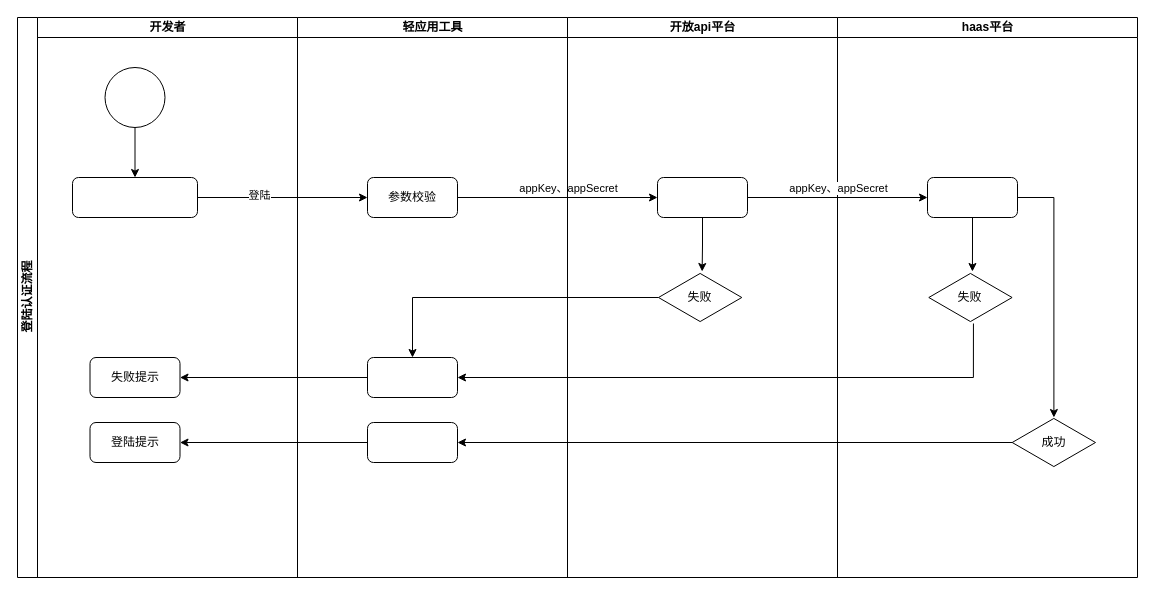
This 1155x595 diagram has some shape labels left out. The shapes that lost their labels are listed below. From the top down, each one's centre as x and y in pixels, then its label:
At pixel 134 97: "开始登陆".
At pixel 135 197: "appKey + appSecret".
At pixel 702 197: "api权限校验".
At pixel 972 197: "账号校验".
At pixel 412 377: "登陆失败".
At pixel 412 442: "登陆成功".
